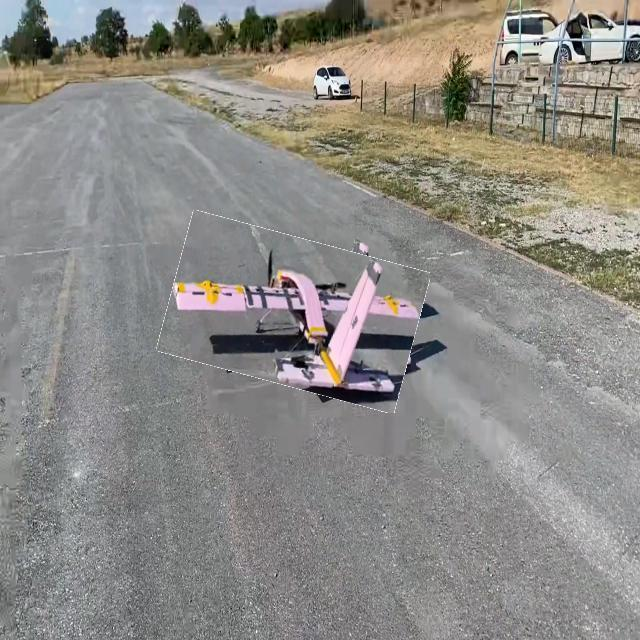UAV: (174, 204, 451, 428)
